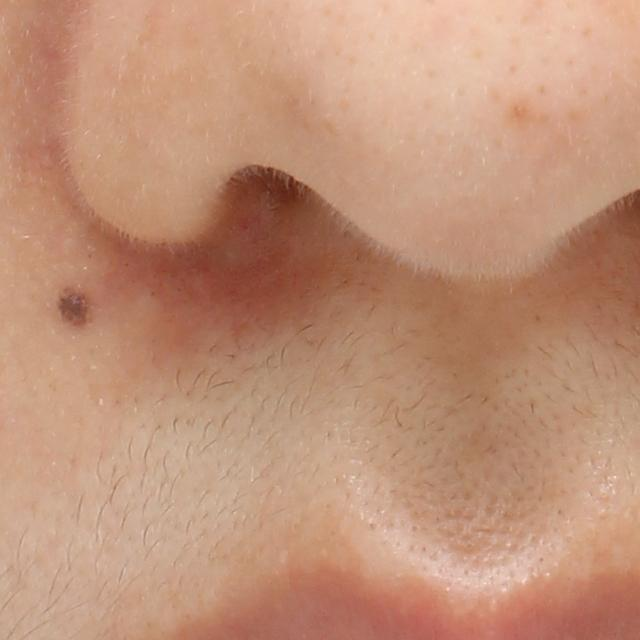nevus: (51, 284, 102, 338)
